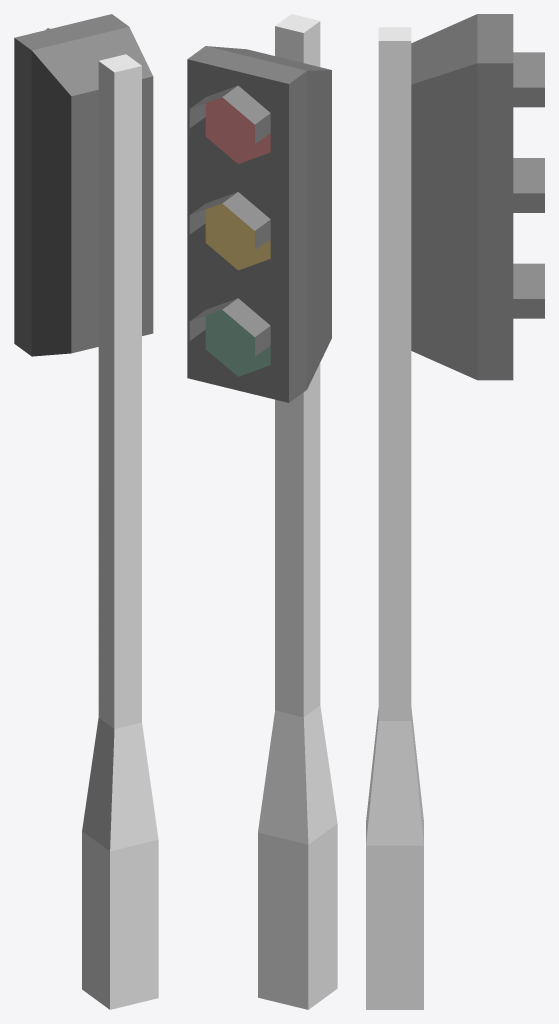
File: lightColored.glb
3 renders of one model, left to right at view 1: azimuth 30°, elevation 25°; view 2: azimuth 150°, elevation 25°; view 3: azimuth 270°, elevation 25°, orthographic. The views are drawn at different scales.
Visible parts, largest first — view 1: lightColored; view 2: lightColored; view 3: lightColored.
Boxes of the visible parts, x1,y1,x2,y2 form: lightColored: [14, 14, 158, 1009]; lightColored: [187, 14, 337, 1009]; lightColored: [366, 14, 544, 1009].
Size of the model in its own units: 0.0708 by 0.6457 by 0.1087.
